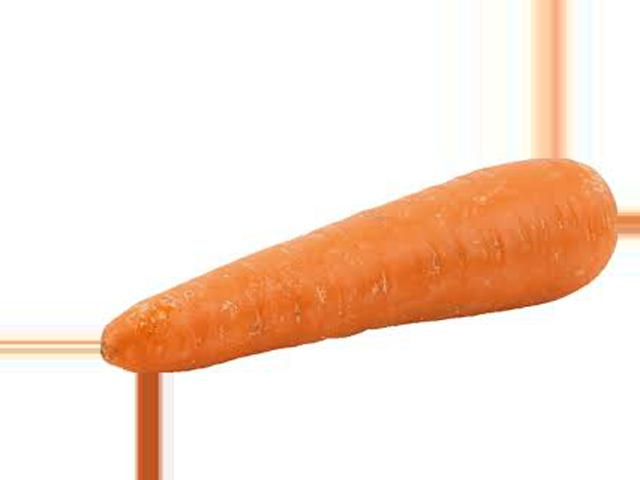carrot: (105, 160, 619, 370)
